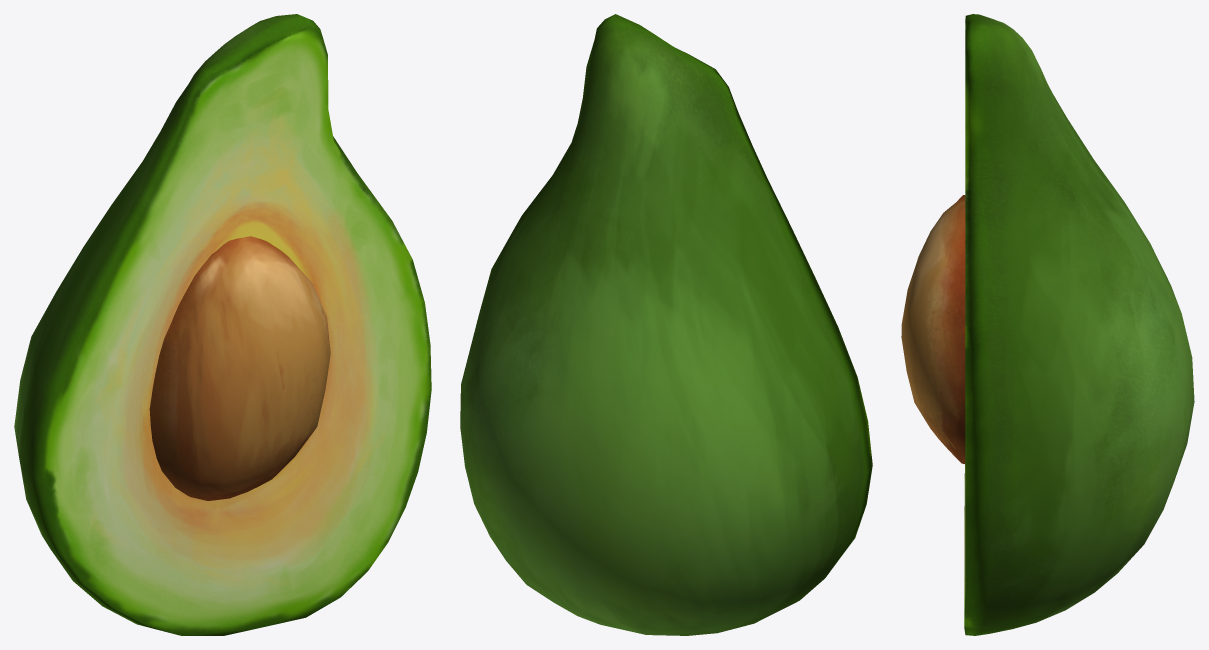
Rendered from Avocado.gltf.
The picture shows the model from 3 angles, left to right: view 1: azimuth 30°, elevation 25°; view 2: azimuth 150°, elevation 25°; view 3: azimuth 270°, elevation 25°; orthographic projection. The views are drawn at different scales.
Visible parts, largest first — view 1: Avocado; view 2: Avocado; view 3: Avocado.
Boxes of the visible parts, x1,y1,x2,y2 form: Avocado: (14,14,431,635); Avocado: (460,14,872,635); Avocado: (901,14,1194,635).
Bounding box in the file's own units: 0.0426 × 0.0629 × 0.0276.
1 material, 1 textured.
